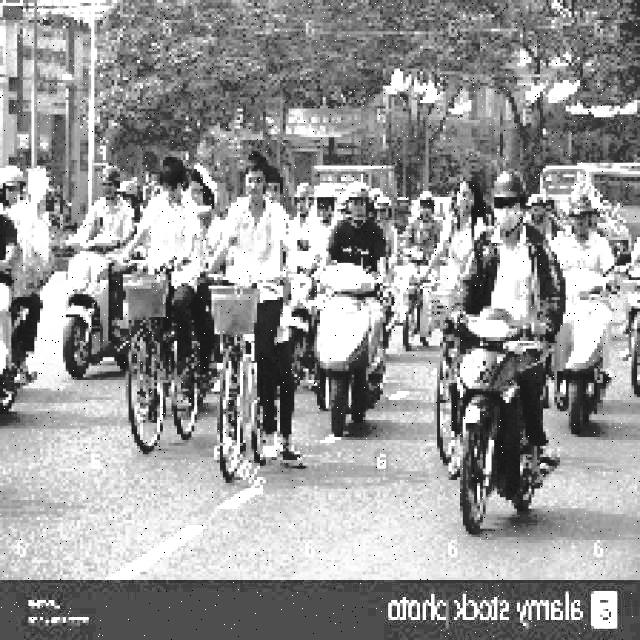Bike: (441, 295, 545, 536), (310, 265, 394, 453), (59, 215, 135, 373), (556, 259, 622, 440)
